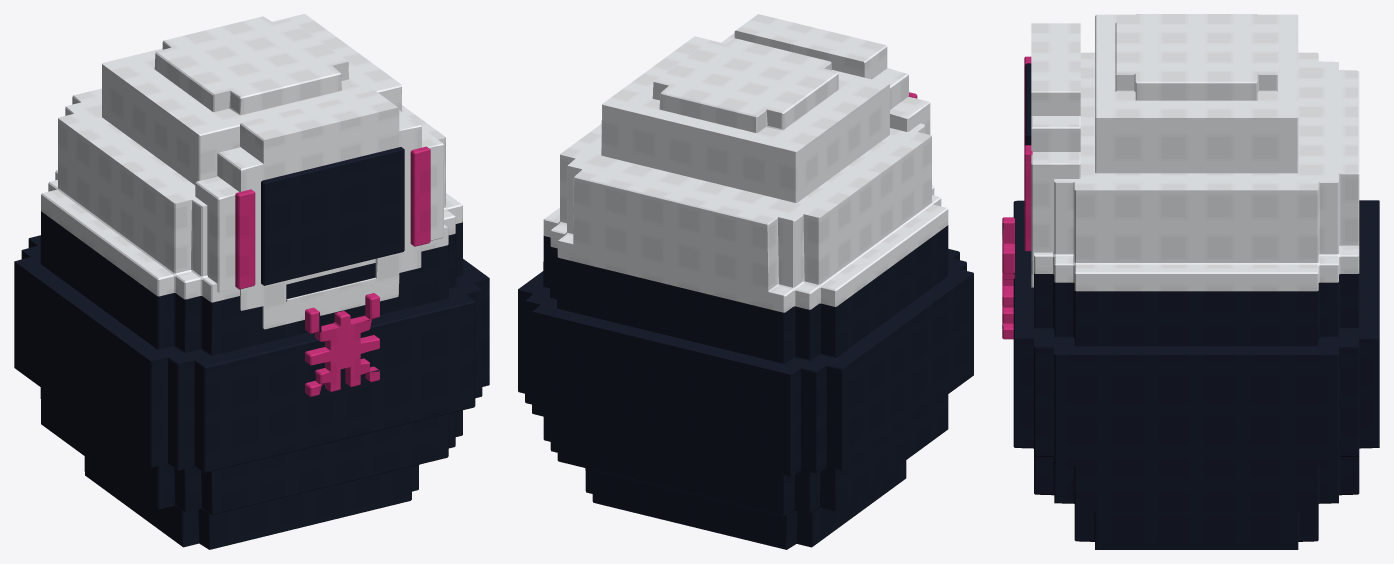
The model's file is SpiderGwen_Egg.fbx.
The picture shows the model from 3 angles, left to right: view 1: azimuth 30°, elevation 25°; view 2: azimuth 150°, elevation 25°; view 3: azimuth 270°, elevation 25°; orthographic projection. The views are drawn at different scales.
Parts seen in each view (by area): view 1: SpiderGwen_Egg; view 2: SpiderGwen_Egg; view 3: SpiderGwen_Egg.
Boxes of the visible parts, x1=… form: SpiderGwen_Egg: x1=14, y1=14, x2=489, y2=549; SpiderGwen_Egg: x1=518, y1=14, x2=973, y2=549; SpiderGwen_Egg: x1=1002, y1=14, x2=1379, y2=549.
Size of the model in its own units: 267 by 320 by 247.
Materials: 4 (4 with a texture image).
